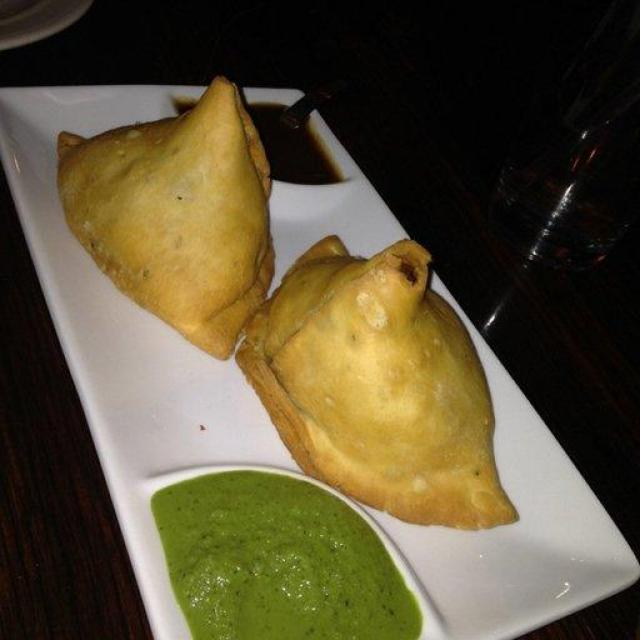food_waste: (235, 216, 530, 568), (45, 76, 301, 375), (136, 450, 447, 640)
